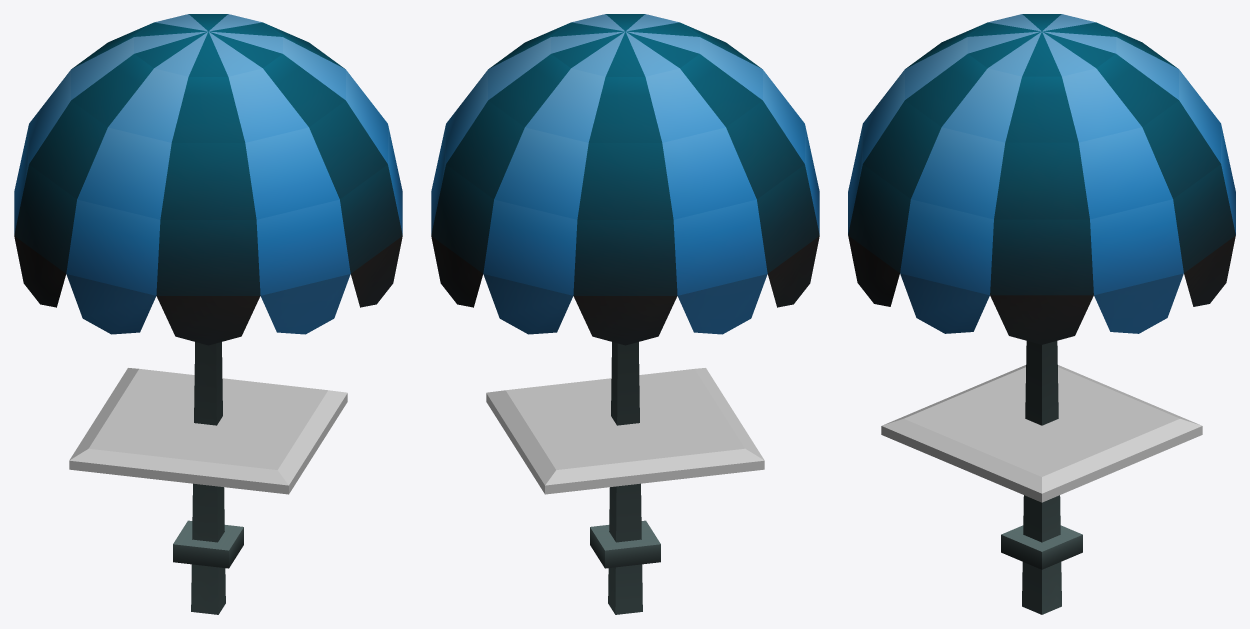
The model's file is Umbrella_1D.fbx.
3 views of the same model, side by side, from view 1: azimuth 30°, elevation 25°; view 2: azimuth 150°, elevation 25°; view 3: azimuth 270°, elevation 25° (orthographic).
Parts seen in each view (by area): view 1: Umbrella_1D, Umbrella_Table_1D; view 2: Umbrella_1D, Umbrella_Table_1D; view 3: Umbrella_1D, Umbrella_Table_1D.
Part boxes in pixels (bbox=[...]): Umbrella_1D: bbox=[14, 14, 402, 614]; Umbrella_Table_1D: bbox=[69, 368, 347, 494]; Umbrella_1D: bbox=[431, 14, 819, 614]; Umbrella_Table_1D: bbox=[486, 368, 764, 494]; Umbrella_1D: bbox=[848, 14, 1235, 614]; Umbrella_Table_1D: bbox=[881, 365, 1202, 502].
Size of the model in its own units: 2.44 by 4 by 2.44.
